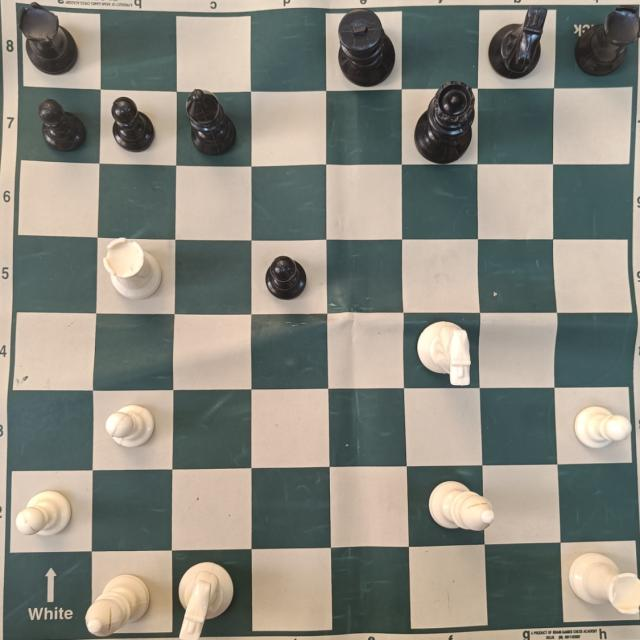black-bishop: (187, 89, 238, 154)
black-king: (339, 11, 397, 85)
black-knight: (490, 12, 548, 79)
black-pawn: (110, 98, 157, 153), (39, 97, 87, 150), (266, 259, 308, 298)
black-queen: (415, 83, 475, 164)
black-rook: (577, 8, 640, 81), (20, 2, 79, 75)
white-bishop: (86, 570, 153, 635), (429, 480, 494, 533)
white-knight: (178, 558, 236, 640), (417, 320, 473, 385)
white-pawn: (575, 401, 631, 451), (16, 491, 71, 540), (107, 402, 155, 449)
white-rook: (568, 551, 640, 615), (105, 238, 163, 302)
